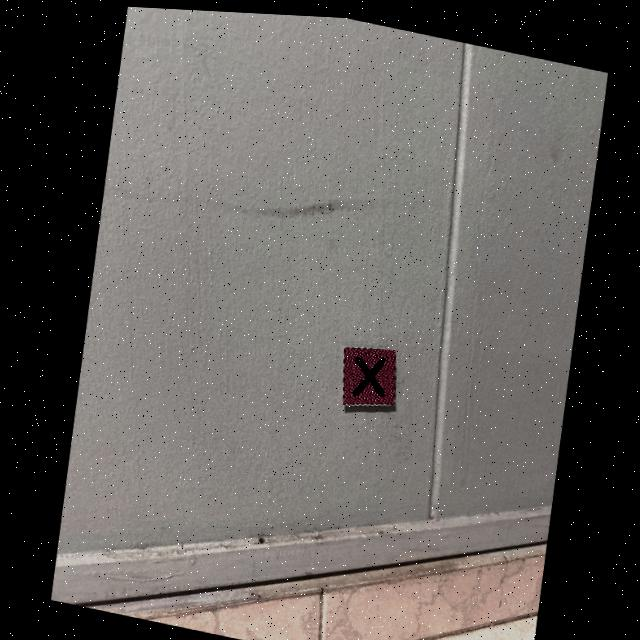X: (351, 354, 384, 393)
